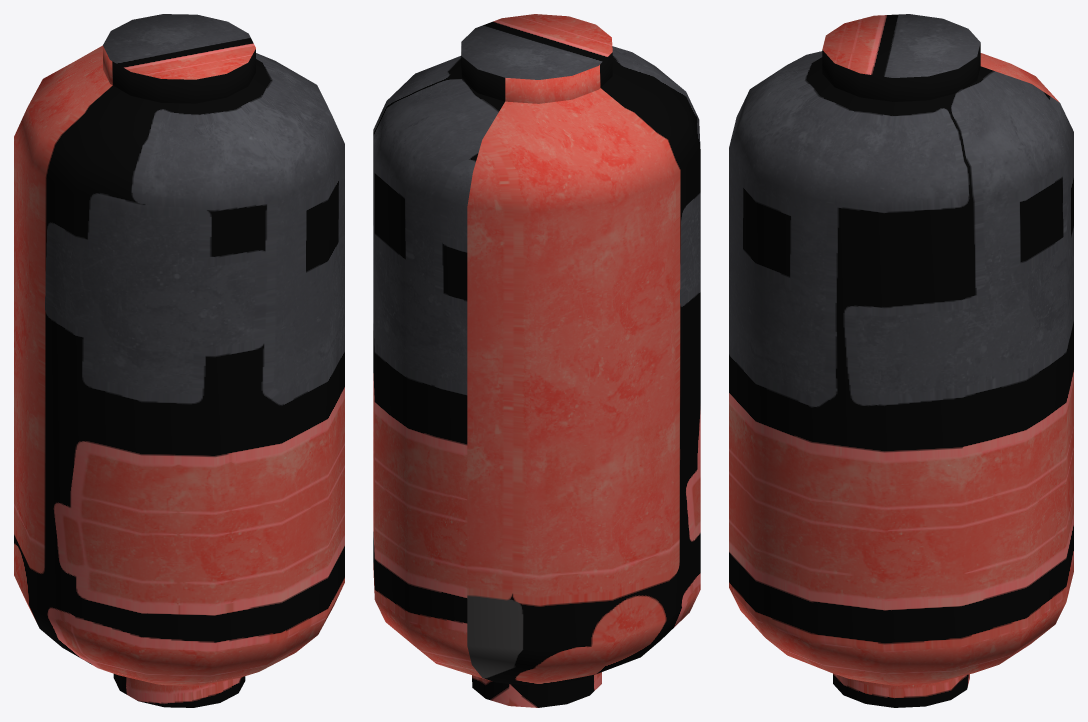
Rendered from tyoutin_holo.fbx.
The picture shows the model from 3 angles, left to right: view 1: azimuth 30°, elevation 25°; view 2: azimuth 150°, elevation 25°; view 3: azimuth 270°, elevation 25°; orthographic projection.
Parts seen in each view (by area): view 1: tyoutin1; view 2: tyoutin1; view 3: tyoutin1.
Boxes of the visible parts, x1,y1,x2,y2 form: tyoutin1: (14,14,344,707); tyoutin1: (373,14,700,707); tyoutin1: (729,14,1073,707).
Bounding box in the file's own units: 18.91 × 40.5 × 19.95.
